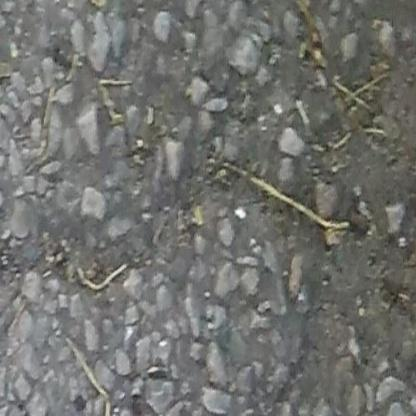Cracks: (0, 167, 315, 311)
